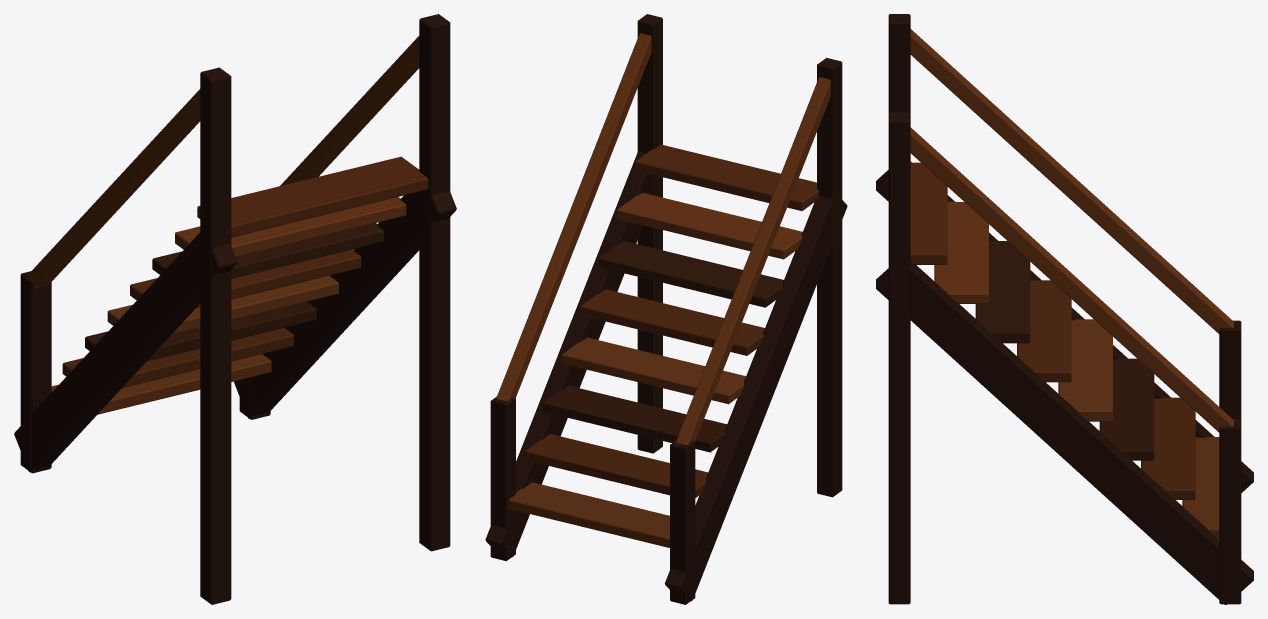
File: mod_stairs_straight_2m.glb
3 views of the same model, side by side, from view 1: azimuth 30°, elevation 25°; view 2: azimuth 150°, elevation 25°; view 3: azimuth 270°, elevation 25° (orthographic). The views are drawn at different scales.
Parts seen in each view (by area): view 1: Mod_Stairs_Straight_2m; view 2: Mod_Stairs_Straight_2m; view 3: Mod_Stairs_Straight_2m.
Boxes of the visible parts, box(x1,y1,x2,y2) form: Mod_Stairs_Straight_2m: box(14, 14, 456, 604); Mod_Stairs_Straight_2m: box(485, 14, 847, 604); Mod_Stairs_Straight_2m: box(876, 14, 1253, 604).
Bounding box in the file's own units: 1.36 × 2.85 × 2.01.
